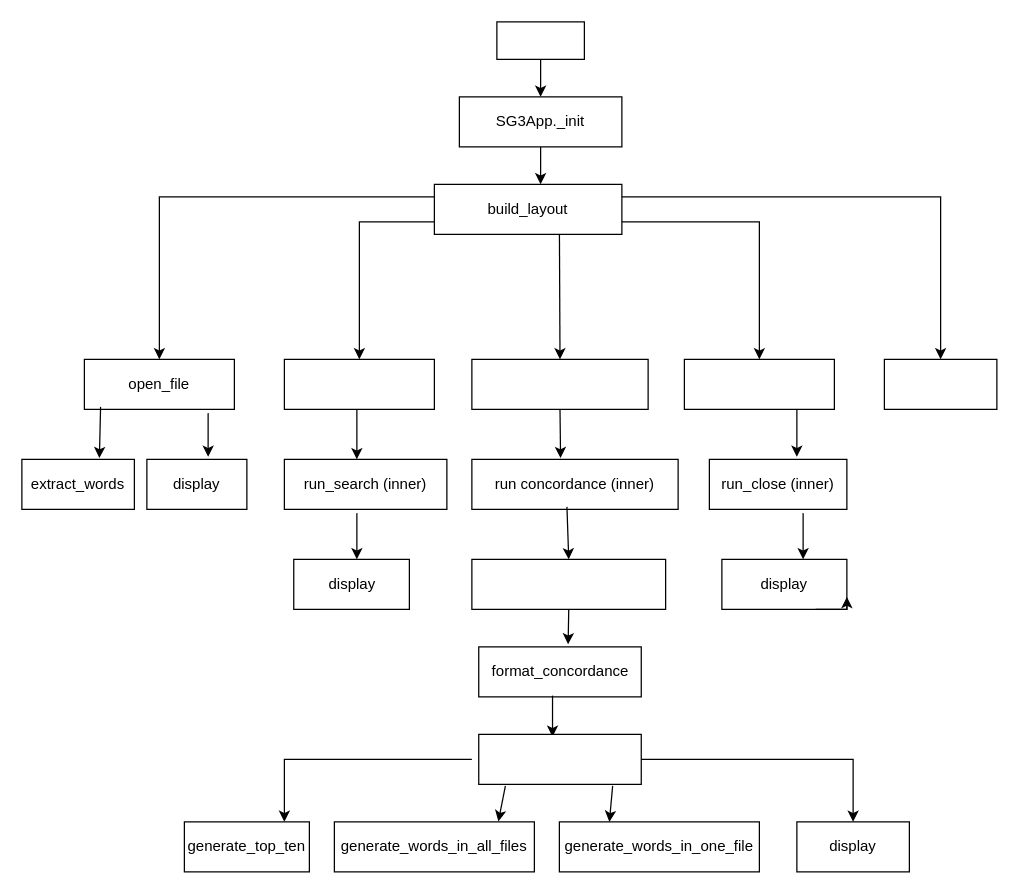
Some shapes in this 1019 by 894 pixel diagram are drawn without their labels. Here are the shapes that lost their labels. From the top down, the box of each, then its label:
(496, 21, 584, 59): main()
(283, 358, 434, 409): search_word
(471, 358, 648, 409): build_concordance_gui
(683, 358, 834, 409): close_file
(883, 358, 997, 409): quit_app
(471, 558, 666, 609): build concordance
(478, 733, 641, 784): generate_extra_lists
